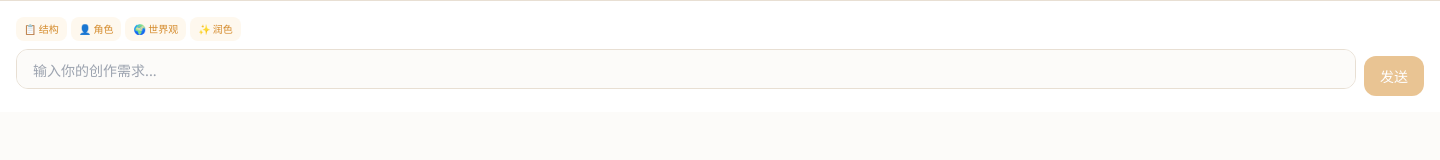
ChatInput › should replace selected text with marker
This screenshot has width=1440, height=160.
In the text box with placeholder "输入你的创作需求...": {"x": 686, "y": 69} [16, 49, 1356, 89], type "hello world"
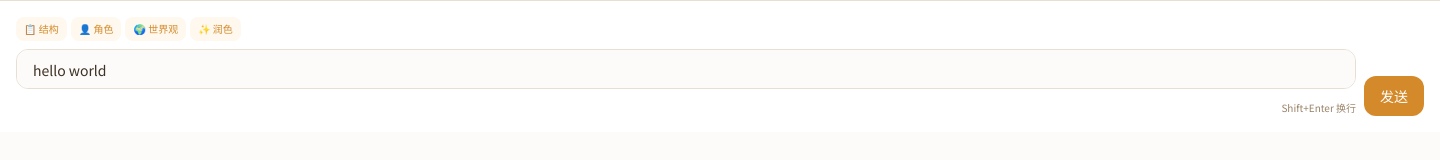
Click the button titled "插入故事结构技能": {"x": 41, "y": 29} [16, 17, 67, 41]
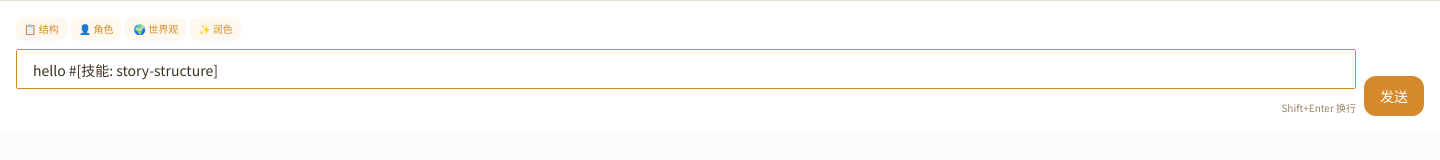
Expected: the text box with placeholder "输入你的创作需求..." holds "hello #[技能: story-structure]", [16, 49, 1356, 89]
